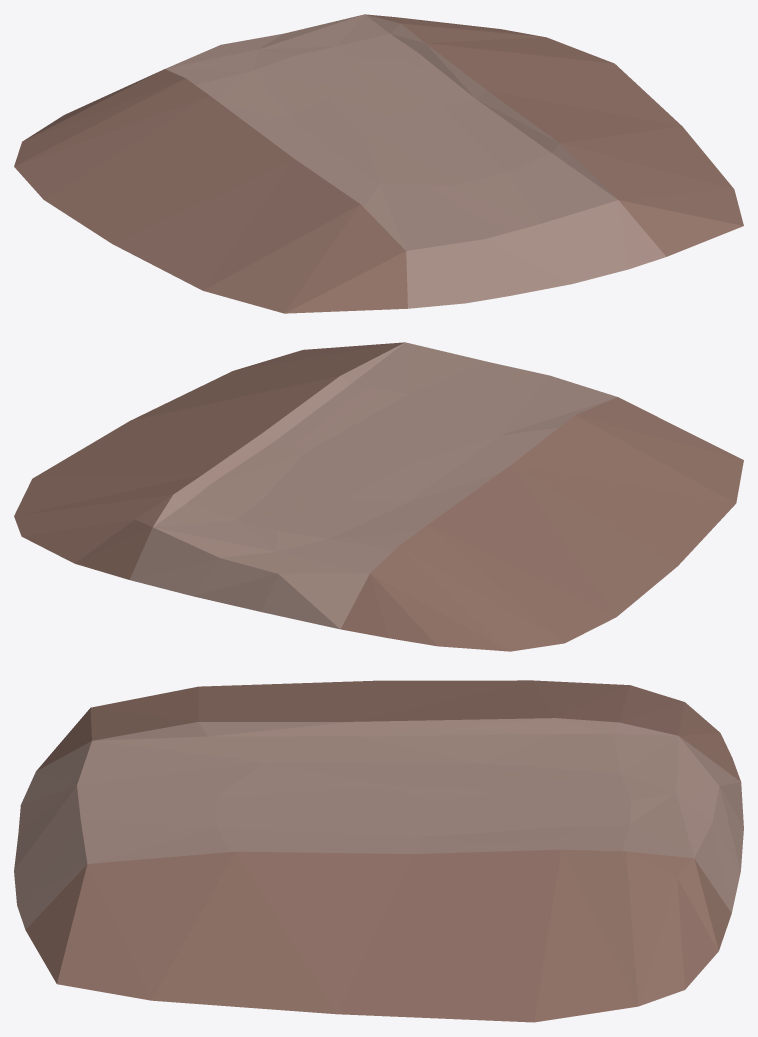
Rendered from road_003.fbx.
3 renders of one model, top to bottom at view 1: azimuth 30°, elevation 25°; view 2: azimuth 150°, elevation 25°; view 3: azimuth 270°, elevation 25°, orthographic. The views are drawn at different scales.
Visible parts, largest first — view 1: road_003; view 2: road_003; view 3: road_003.
Boxes of the visible parts, left/top/right/bottom form: road_003: left=14, top=14, right=743, bottom=313; road_003: left=14, top=342, right=743, bottom=651; road_003: left=14, top=680, right=743, bottom=1022.
Size of the model in its own units: 2560 by 2339 by 255.
